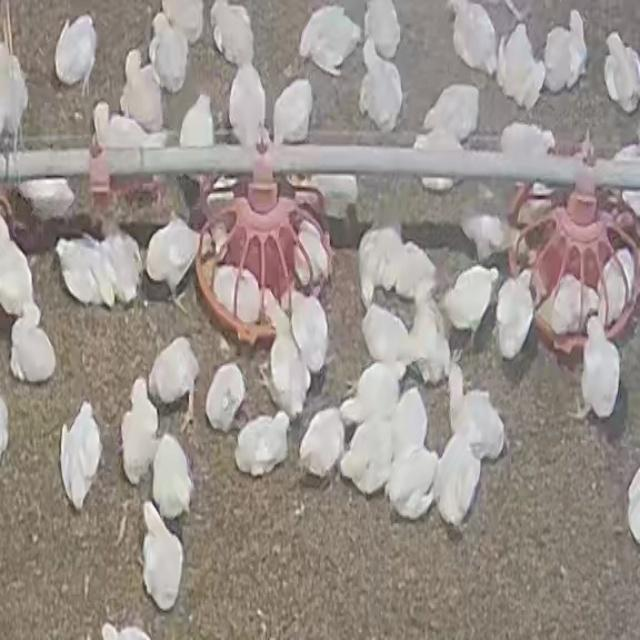chicken: (144, 210, 200, 308), (140, 500, 187, 612), (448, 375, 505, 464), (266, 303, 308, 419), (59, 401, 102, 511), (354, 42, 402, 137), (340, 411, 394, 494), (580, 314, 621, 421), (433, 431, 478, 528), (0, 209, 40, 318), (91, 97, 165, 155), (54, 234, 112, 308), (357, 223, 408, 307), (405, 290, 449, 386), (148, 335, 201, 413), (446, 0, 497, 80), (121, 378, 159, 484), (234, 409, 292, 478), (10, 304, 58, 387), (386, 446, 439, 520), (442, 264, 498, 334), (538, 272, 598, 337), (541, 10, 591, 87), (358, 301, 413, 371), (343, 362, 403, 426), (296, 5, 356, 68), (298, 406, 347, 483), (494, 270, 535, 358), (151, 434, 195, 516), (290, 286, 330, 375), (121, 50, 164, 128), (52, 13, 96, 87), (495, 25, 537, 102), (0, 45, 30, 152), (211, 262, 262, 324), (225, 62, 264, 142), (600, 31, 640, 109), (204, 363, 247, 435), (409, 133, 468, 185), (104, 226, 142, 304), (422, 86, 484, 132), (294, 217, 332, 291), (599, 248, 634, 327), (458, 211, 510, 264), (272, 79, 313, 146), (151, 16, 188, 90), (211, 0, 255, 61), (294, 173, 358, 214), (392, 242, 436, 300), (608, 141, 640, 220), (16, 178, 74, 221), (392, 388, 428, 457), (363, 0, 405, 57), (160, 1, 206, 46), (178, 93, 215, 148), (498, 128, 556, 160)
